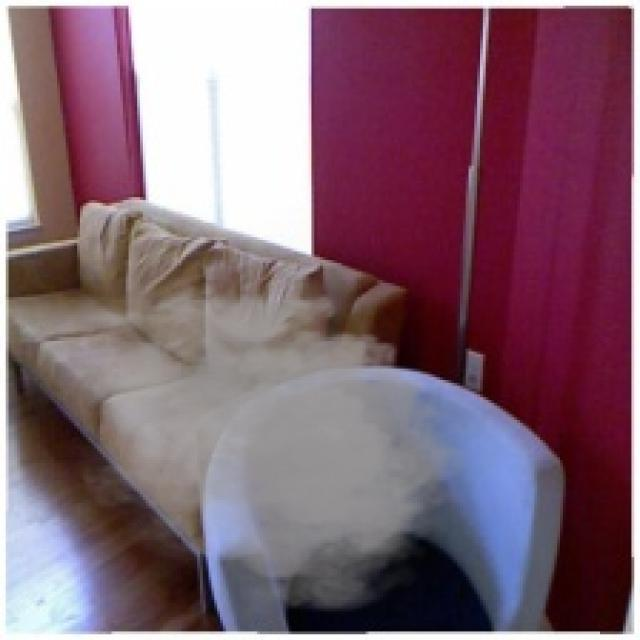Smoke: (57, 268, 477, 623)
